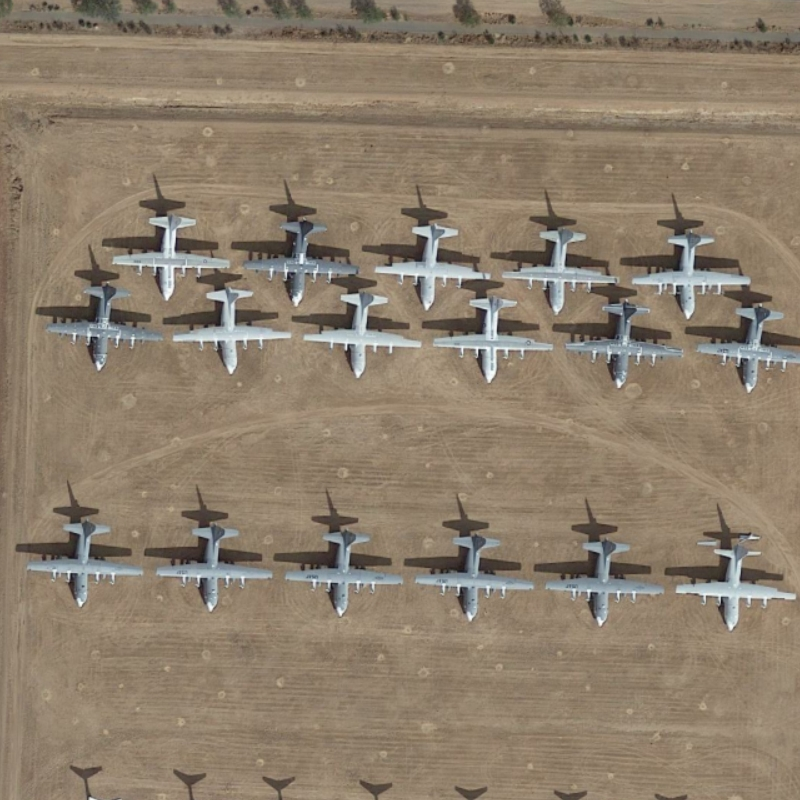A2: (107, 200, 234, 307), (431, 288, 559, 387), (241, 210, 363, 312), (632, 222, 754, 324), (674, 533, 797, 633), (283, 520, 408, 618), (156, 514, 278, 614), (41, 280, 166, 377), (565, 296, 690, 391), (543, 532, 665, 629), (499, 221, 623, 316), (372, 215, 492, 313), (27, 515, 148, 612), (413, 527, 535, 622), (304, 285, 424, 381), (176, 287, 296, 380), (695, 294, 800, 397)
